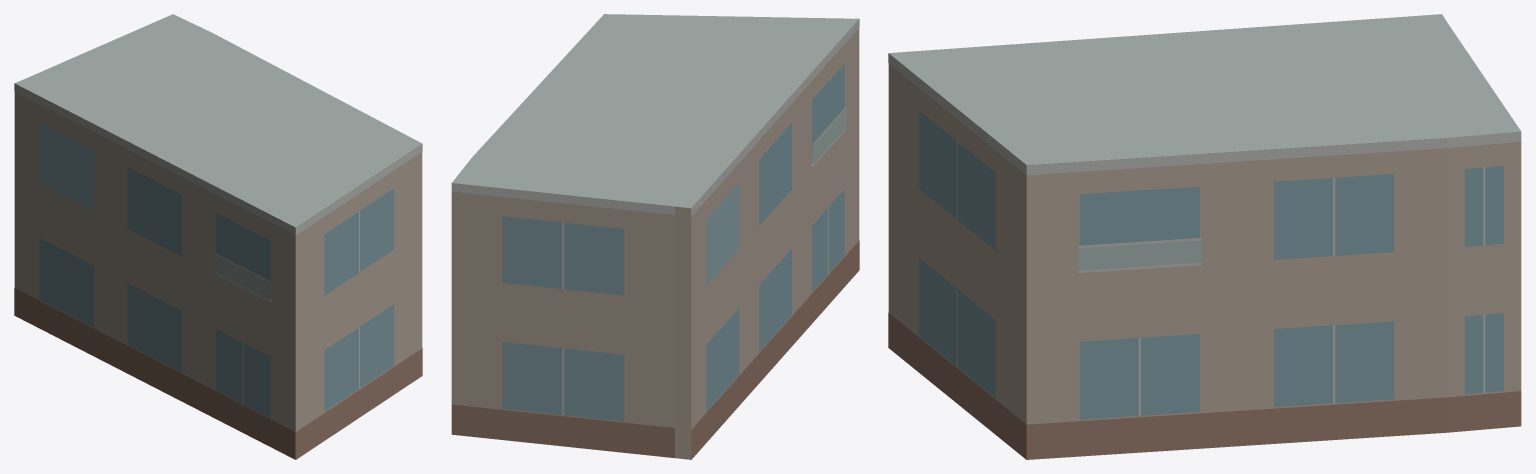
Rendered from survey-upis-32517850.glb.
3 views of the same model, side by side, from view 1: azimuth 30°, elevation 25°; view 2: azimuth 150°, elevation 25°; view 3: azimuth 270°, elevation 25° (orthographic). The views are drawn at different scales.
Parts seen in each view (by area): view 1: survey-upis-32517850.tmp; view 2: survey-upis-32517850.tmp; view 3: survey-upis-32517850.tmp.
Boxes of the visible parts, x1=… form: survey-upis-32517850.tmp: x1=14, y1=14, x2=422, y2=459; survey-upis-32517850.tmp: x1=451, y1=14, x2=859, y2=459; survey-upis-32517850.tmp: x1=888, y1=14, x2=1521, y2=459.
Bounding box in the file's own units: 7.82 × 7.1 × 13.83.
